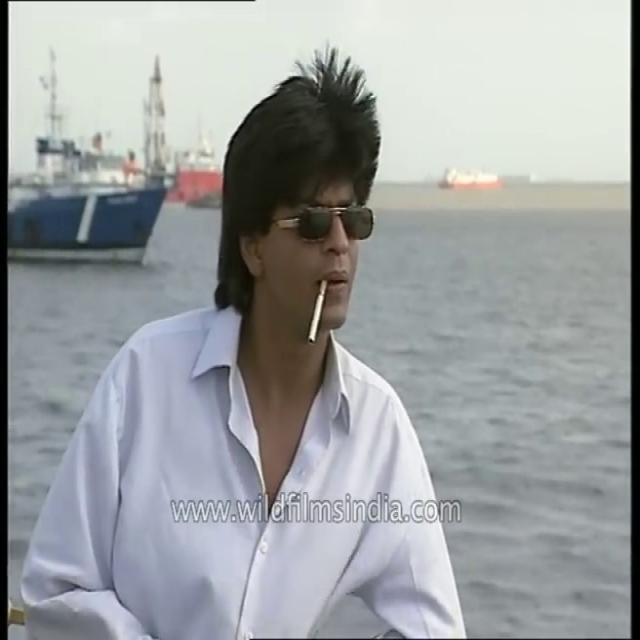Smooking: (298, 270, 336, 374)
